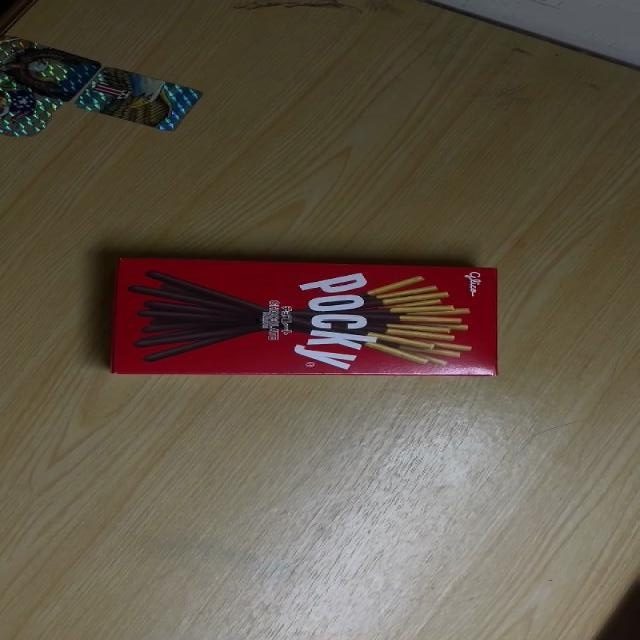Pocky: (111, 257, 499, 376)
